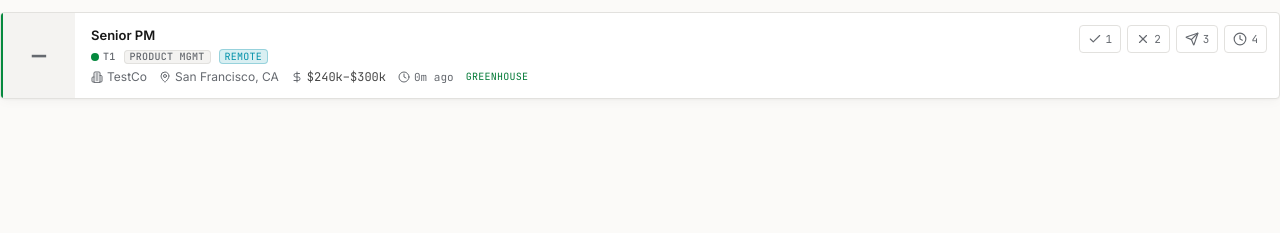
TriageCard › action 2 button toggles the inline reason picker
What coordinates should you click on to do the following:
click the button named "Pass · 2"
I would click on:
 (1148, 39)
Its box is [1127,25,1170,53].
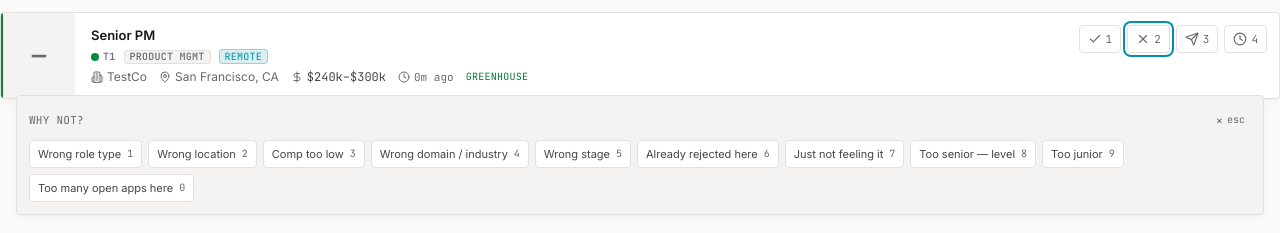
Check: the text "Why not?" is shown, box [29,112,84,128]
